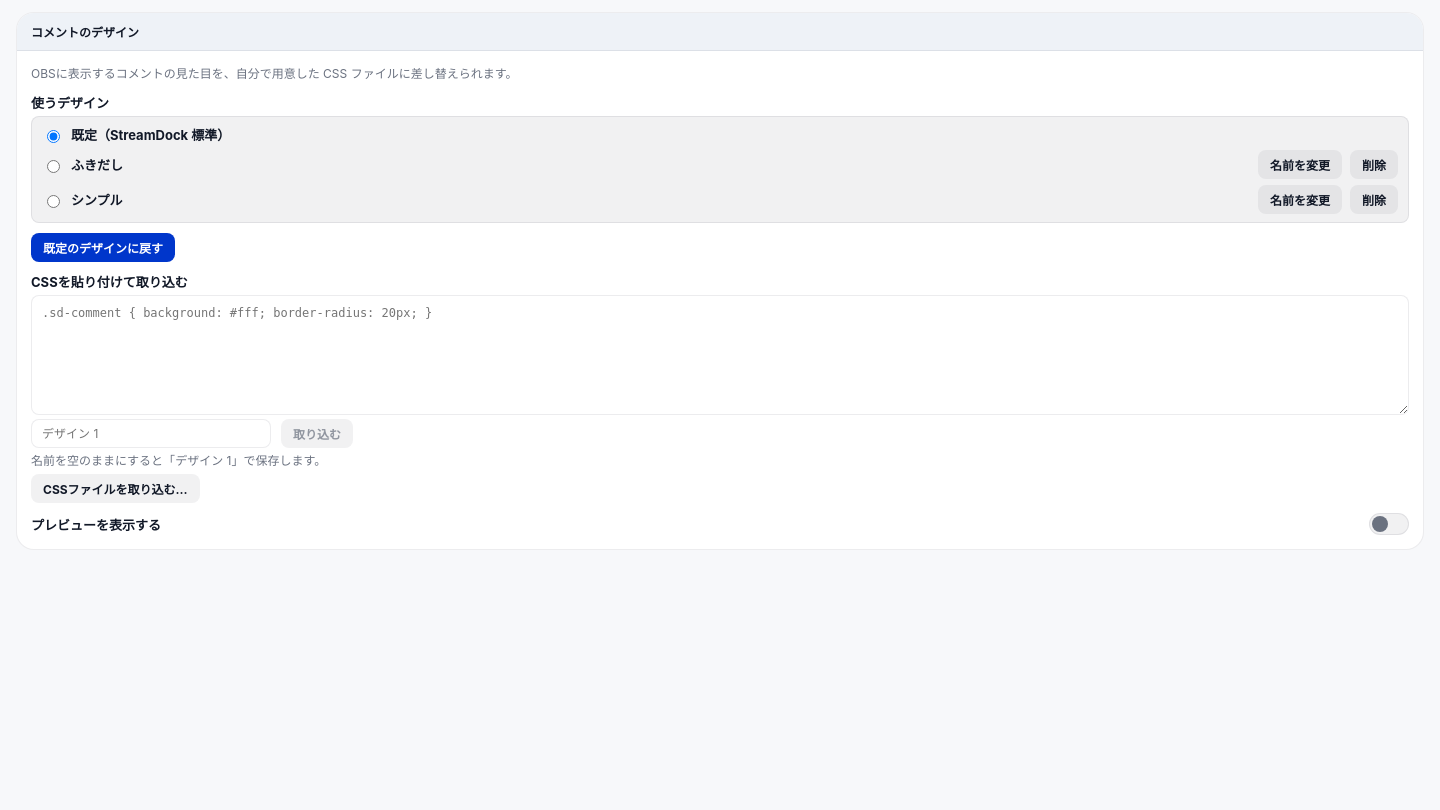
Test: 削除 › 確認ダイアログを挟んでから削除する
The width and height of the screenshot is (1440, 810).
Expected: the radio button labelled "ふきだし" is shown, left=47, top=160, right=60, bottom=172
Click the button "削除" in the row of "ふきだし".
click(1374, 164)  # box left=1350, top=150, right=1398, bottom=179
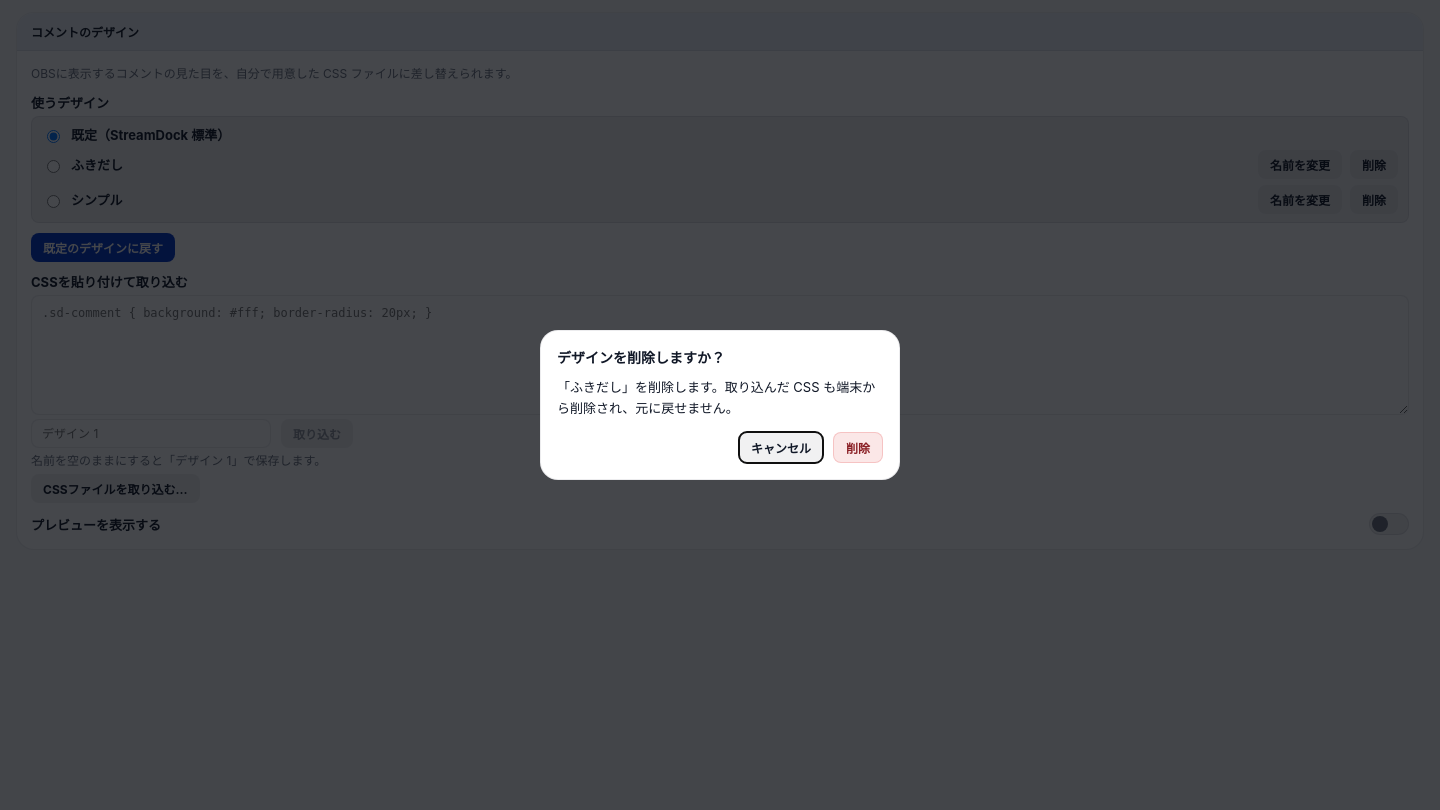
Expected: the text "「ふきだし」を削除します。取り込んだ CSS も端末から削除され、元に戻せません。" is shown, left=557, top=377, right=883, bottom=418
Click the button "削除".
click(858, 448)  # box left=833, top=432, right=883, bottom=463
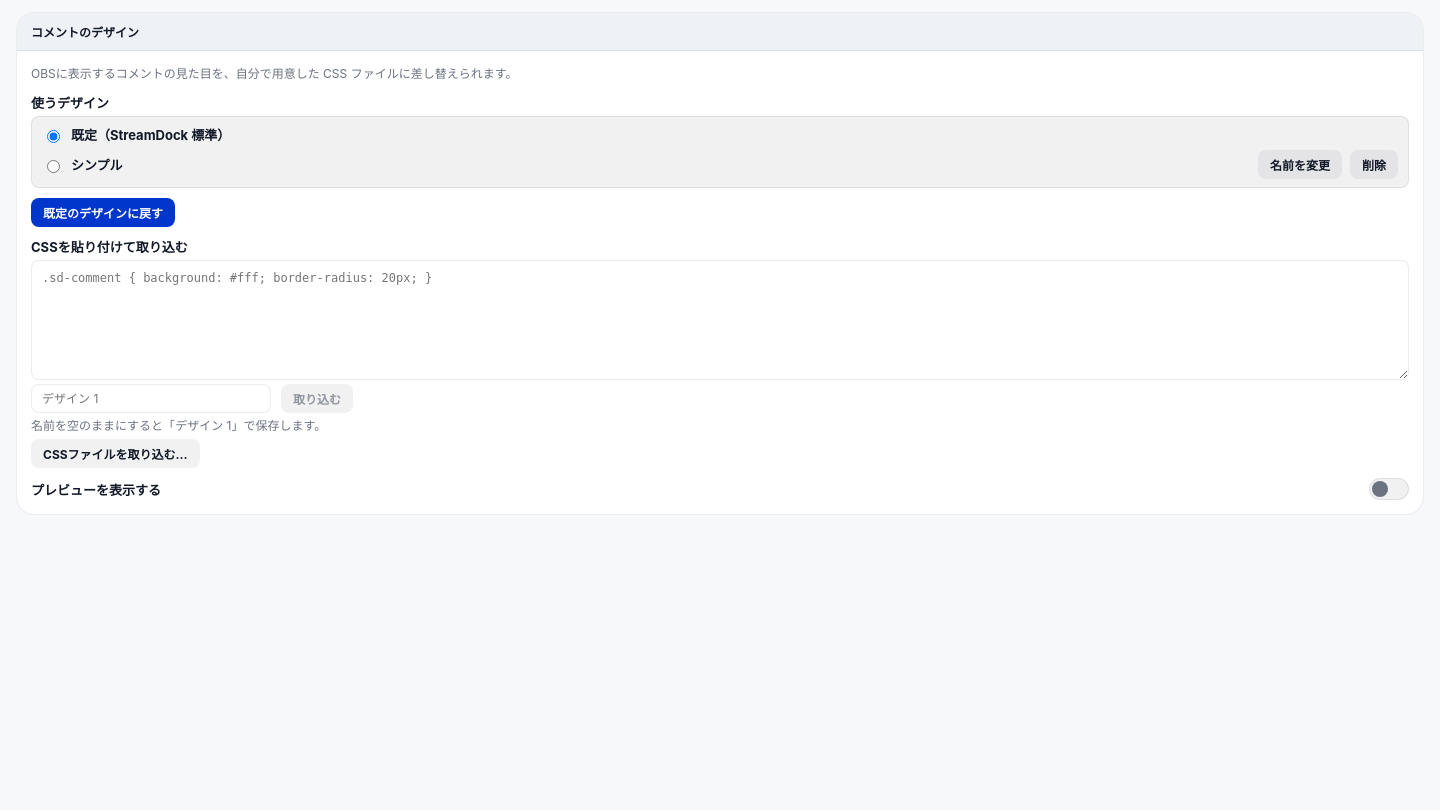
Expected: the text "ふきだし" is gone
